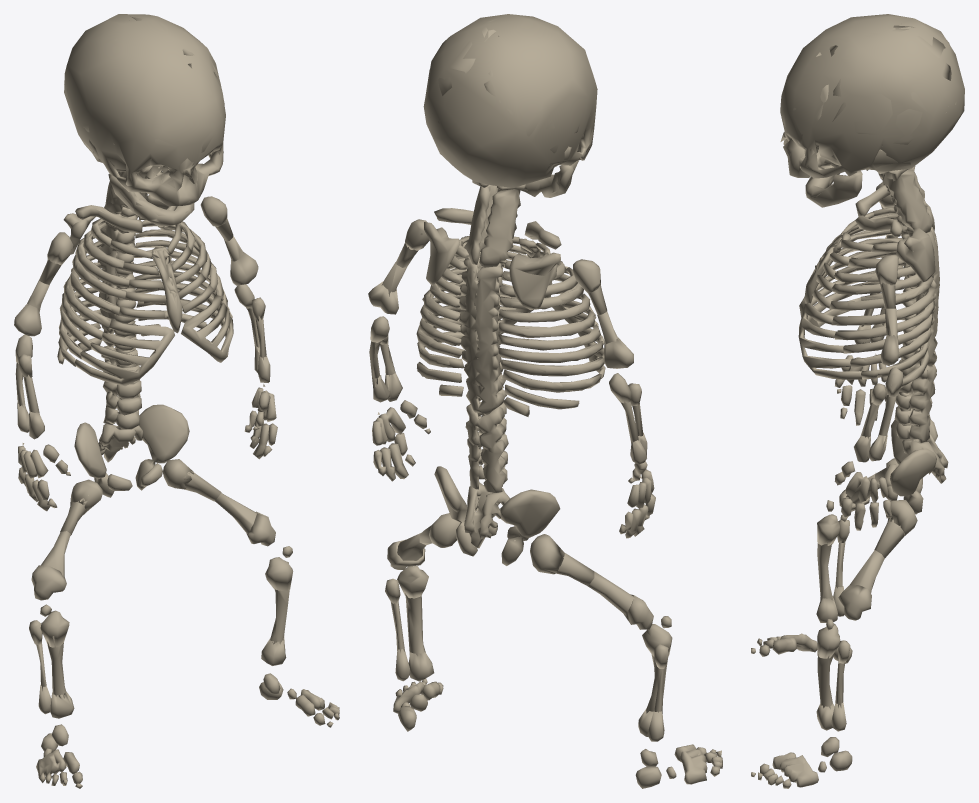
The model's file is pediatric_neonate_female.skeletal.LOD3.glb.
The picture shows the model from 3 angles, left to right: view 1: azimuth 30°, elevation 25°; view 2: azimuth 150°, elevation 25°; view 3: azimuth 270°, elevation 25°; orthographic projection. The views are drawn at different scales.
Visible parts, largest first — view 1: PEDIATRIC.NEONATE.FEMALE.SKELETAL.CARTILAGE_TRUNK, PEDIATRIC.NEONATE.FEMALE.SKELETAL.CARTILAGE_HEAD, PEDIATRIC.NEONATE.FEMALE.SKELETAL.CARTILAGE_LEGS, PEDIATRIC.NEONATE.FEMALE.SKELETAL.CARTILAGE_ARMS, PEDIATRIC.NEONATE.FEMALE.SKELETAL.RIBS_CORTICAL, PEDIATRIC.NEONATE.FEMALE.SKELETAL.FEMORA_LOWER_CORTICAL, PEDIATRIC.NEONATE.FEMALE.SKELETAL.TIBIAE_CORTICAL, PEDIATRIC.NEONATE.FEMALE.SKELETAL.CRANIUM_CORTICAL, PEDIATRIC.NEONATE.FEMALE.SKELETAL.FEMORA_UPPER_CORTICAL, PEDIATRIC.NEONATE.FEMALE.SKELETAL.RADII_CORTICAL, PEDIATRIC.NEONATE.FEMALE.SKELETAL.HUMERI_LOWER_CORTICAL; view 2: PEDIATRIC.NEONATE.FEMALE.SKELETAL.CARTILAGE_TRUNK, PEDIATRIC.NEONATE.FEMALE.SKELETAL.CARTILAGE_HEAD, PEDIATRIC.NEONATE.FEMALE.SKELETAL.CARTILAGE_LEGS, PEDIATRIC.NEONATE.FEMALE.SKELETAL.CARTILAGE_ARMS, PEDIATRIC.NEONATE.FEMALE.SKELETAL.RIBS_CORTICAL, PEDIATRIC.NEONATE.FEMALE.SKELETAL.CRANIUM_CORTICAL, PEDIATRIC.NEONATE.FEMALE.SKELETAL.FEMORA_LOWER_CORTICAL, PEDIATRIC.NEONATE.FEMALE.SKELETAL.TIBIAE_CORTICAL, PEDIATRIC.NEONATE.FEMALE.SKELETAL.FEMORA_UPPER_CORTICAL, PEDIATRIC.NEONATE.FEMALE.SKELETAL.HUMERI_LOWER_CORTICAL, PEDIATRIC.NEONATE.FEMALE.SKELETAL.FIBULAE_CORTICAL, PEDIATRIC.NEONATE.FEMALE.SKELETAL.ULNAE_CORTICAL (+1 smaller); view 3: PEDIATRIC.NEONATE.FEMALE.SKELETAL.CARTILAGE_HEAD, PEDIATRIC.NEONATE.FEMALE.SKELETAL.CARTILAGE_TRUNK, PEDIATRIC.NEONATE.FEMALE.SKELETAL.CARTILAGE_LEGS, PEDIATRIC.NEONATE.FEMALE.SKELETAL.CARTILAGE_ARMS, PEDIATRIC.NEONATE.FEMALE.SKELETAL.CRANIUM_CORTICAL, PEDIATRIC.NEONATE.FEMALE.SKELETAL.RIBS_CORTICAL, PEDIATRIC.NEONATE.FEMALE.SKELETAL.TIBIAE_CORTICAL, PEDIATRIC.NEONATE.FEMALE.SKELETAL.FEMORA_LOWER_CORTICAL, PEDIATRIC.NEONATE.FEMALE.SKELETAL.FEMORA_UPPER_CORTICAL, PEDIATRIC.NEONATE.FEMALE.SKELETAL.FIBULAE_CORTICAL, PEDIATRIC.NEONATE.FEMALE.SKELETAL.ULNAE_CORTICAL, PEDIATRIC.NEONATE.FEMALE.SKELETAL.RADII_CORTICAL.
Boxes of the visible parts, x1,y1,x2,y2 form: PEDIATRIC.NEONATE.FEMALE.SKELETAL.CARTILAGE_TRUNK: (57,171,233,497); PEDIATRIC.NEONATE.FEMALE.SKELETAL.CARTILAGE_HEAD: (64,14,225,226); PEDIATRIC.NEONATE.FEMALE.SKELETAL.CARTILAGE_LEGS: (29,459,339,788); PEDIATRIC.NEONATE.FEMALE.SKELETAL.CARTILAGE_ARMS: (14,196,277,511); PEDIATRIC.NEONATE.FEMALE.SKELETAL.RIBS_CORTICAL: (58,207,227,362); PEDIATRIC.NEONATE.FEMALE.SKELETAL.FEMORA_LOWER_CORTICAL: (41,493,256,576); PEDIATRIC.NEONATE.FEMALE.SKELETAL.TIBIAE_CORTICAL: (47,589,289,698); PEDIATRIC.NEONATE.FEMALE.SKELETAL.CRANIUM_CORTICAL: (64,15,224,205); PEDIATRIC.NEONATE.FEMALE.SKELETAL.FEMORA_UPPER_CORTICAL: (60,471,221,535); PEDIATRIC.NEONATE.FEMALE.SKELETAL.RADII_CORTICAL: (23,298,266,413); PEDIATRIC.NEONATE.FEMALE.SKELETAL.HUMERI_LOWER_CORTICAL: (27,236,243,311); PEDIATRIC.NEONATE.FEMALE.SKELETAL.CARTILAGE_TRUNK: (416,180,605,565); PEDIATRIC.NEONATE.FEMALE.SKELETAL.CARTILAGE_HEAD: (423,14,597,197); PEDIATRIC.NEONATE.FEMALE.SKELETAL.CARTILAGE_LEGS: (385,513,722,788); PEDIATRIC.NEONATE.FEMALE.SKELETAL.CARTILAGE_ARMS: (368,219,655,538); PEDIATRIC.NEONATE.FEMALE.SKELETAL.RIBS_CORTICAL: (417,237,604,415); PEDIATRIC.NEONATE.FEMALE.SKELETAL.CRANIUM_CORTICAL: (427,18,593,166); PEDIATRIC.NEONATE.FEMALE.SKELETAL.FEMORA_LOWER_CORTICAL: (397,532,635,615); PEDIATRIC.NEONATE.FEMALE.SKELETAL.TIBIAE_CORTICAL: (405,593,668,713); PEDIATRIC.NEONATE.FEMALE.SKELETAL.FEMORA_UPPER_CORTICAL: (419,525,594,585); PEDIATRIC.NEONATE.FEMALE.SKELETAL.HUMERI_LOWER_CORTICAL: (381,262,618,343); PEDIATRIC.NEONATE.FEMALE.SKELETAL.FIBULAE_CORTICAL: (391,601,665,713); PEDIATRIC.NEONATE.FEMALE.SKELETAL.ULNAE_CORTICAL: (369,341,638,442); PEDIATRIC.NEONATE.FEMALE.SKELETAL.CARTILAGE_HEAD: (780,14,964,207); PEDIATRIC.NEONATE.FEMALE.SKELETAL.CARTILAGE_TRUNK: (798,166,948,513); PEDIATRIC.NEONATE.FEMALE.SKELETAL.CARTILAGE_LEGS: (751,458,917,788); PEDIATRIC.NEONATE.FEMALE.SKELETAL.CARTILAGE_ARMS: (834,182,903,530); PEDIATRIC.NEONATE.FEMALE.SKELETAL.CRANIUM_CORTICAL: (782,15,956,172); PEDIATRIC.NEONATE.FEMALE.SKELETAL.RIBS_CORTICAL: (829,209,933,380); PEDIATRIC.NEONATE.FEMALE.SKELETAL.TIBIAE_CORTICAL: (817,542,834,709); PEDIATRIC.NEONATE.FEMALE.SKELETAL.FEMORA_LOWER_CORTICAL: (846,474,884,593); PEDIATRIC.NEONATE.FEMALE.SKELETAL.FEMORA_UPPER_CORTICAL: (874,468,904,557); PEDIATRIC.NEONATE.FEMALE.SKELETAL.FIBULAE_CORTICAL: (835,520,845,707); PEDIATRIC.NEONATE.FEMALE.SKELETAL.ULNAE_CORTICAL: (878,307,896,460); PEDIATRIC.NEONATE.FEMALE.SKELETAL.RADII_CORTICAL: (860,293,881,438).
Bounding box in the file's own units: 0.2147 × 0.4767 × 0.1327.
